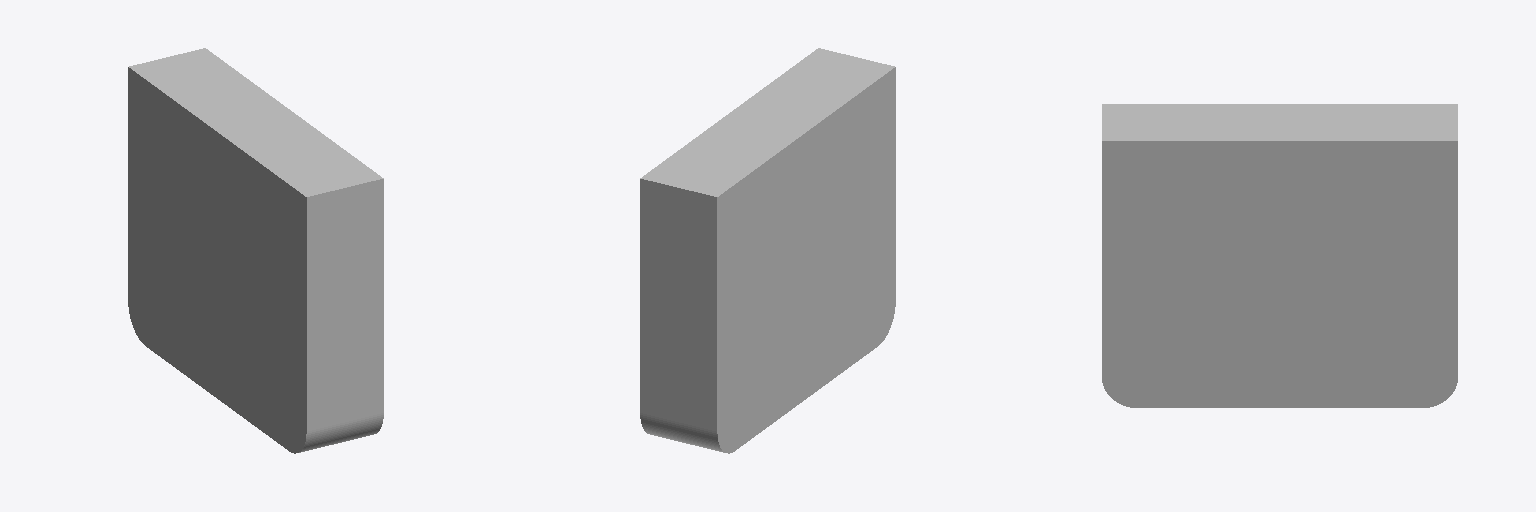
Rendered from NodeBody.obj.
The picture shows the model from 3 angles: view 1: azimuth 30°, elevation 25°; view 2: azimuth 150°, elevation 25°; view 3: azimuth 270°, elevation 25°; orthographic projection.
Visible parts, largest first — view 1: Plane.001; view 2: Plane.001; view 3: Plane.001.
Part boxes in pixels (bbox=[...]): Plane.001: bbox=[128, 48, 383, 453]; Plane.001: bbox=[640, 48, 895, 453]; Plane.001: bbox=[1102, 104, 1457, 407].
Size of the model in its own units: 0.5 by 1.65 by 2.